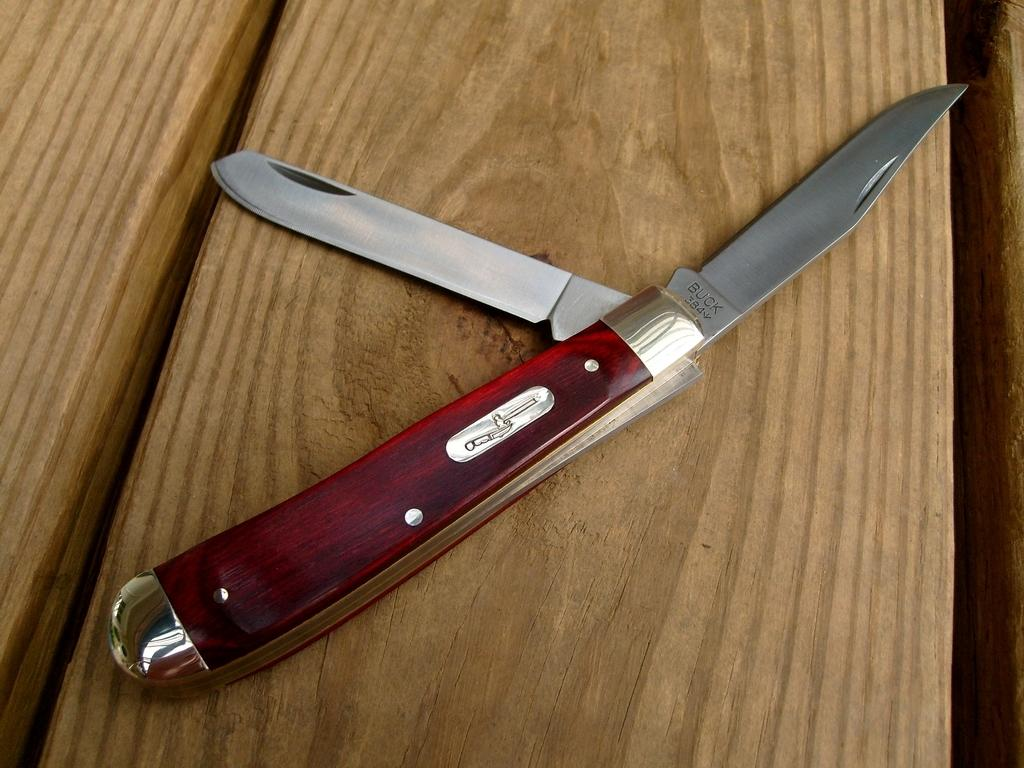Knife: (105, 81, 972, 706)
